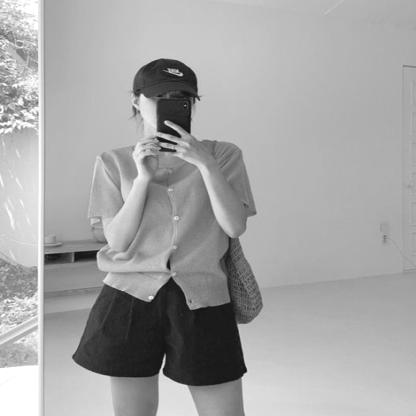dress: (89, 141, 259, 309)
jacket: (76, 270, 253, 384)
